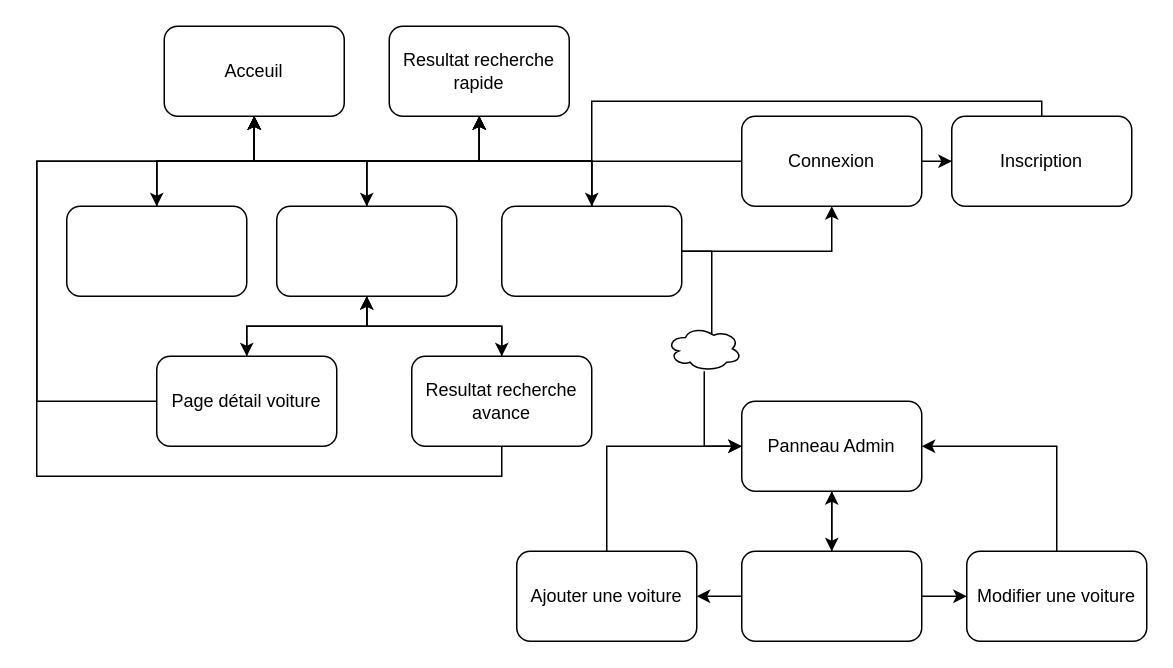
The diagram is 1173 pixels wide and 668 high, and some of its shapes have lost their labels. Here are the shapes that lost their labels. From the top down, the centre of each, then its label:
the point at 156,250: Mission
the point at 366,250: Page liste voiture
the point at 591,250: Membre
the point at 703,348: Si Admin
the point at 831,595: Gestion des voitures
